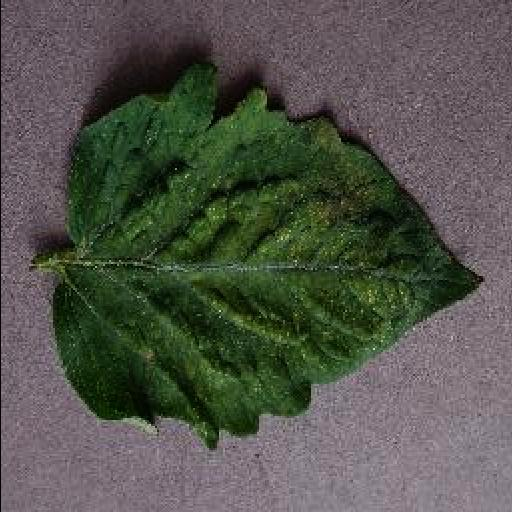disease_tomato: (50, 62, 484, 454)
